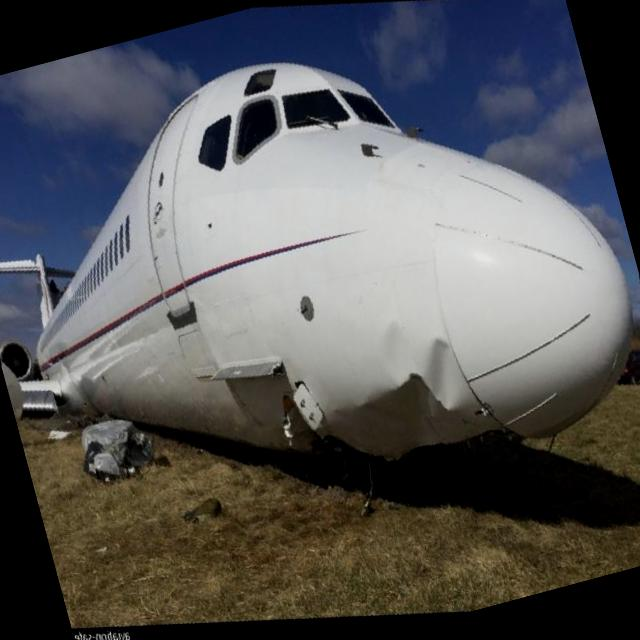dent: (417, 332, 465, 410), (376, 320, 416, 388)
